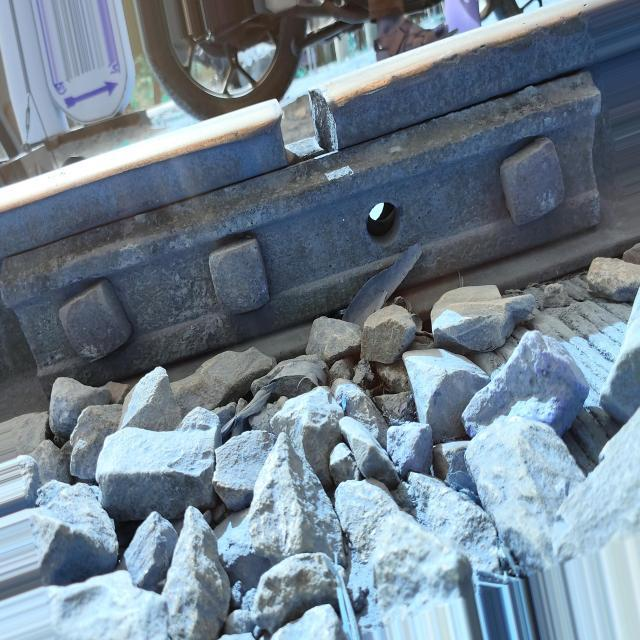Defective Joint: (7, 71, 600, 407)
